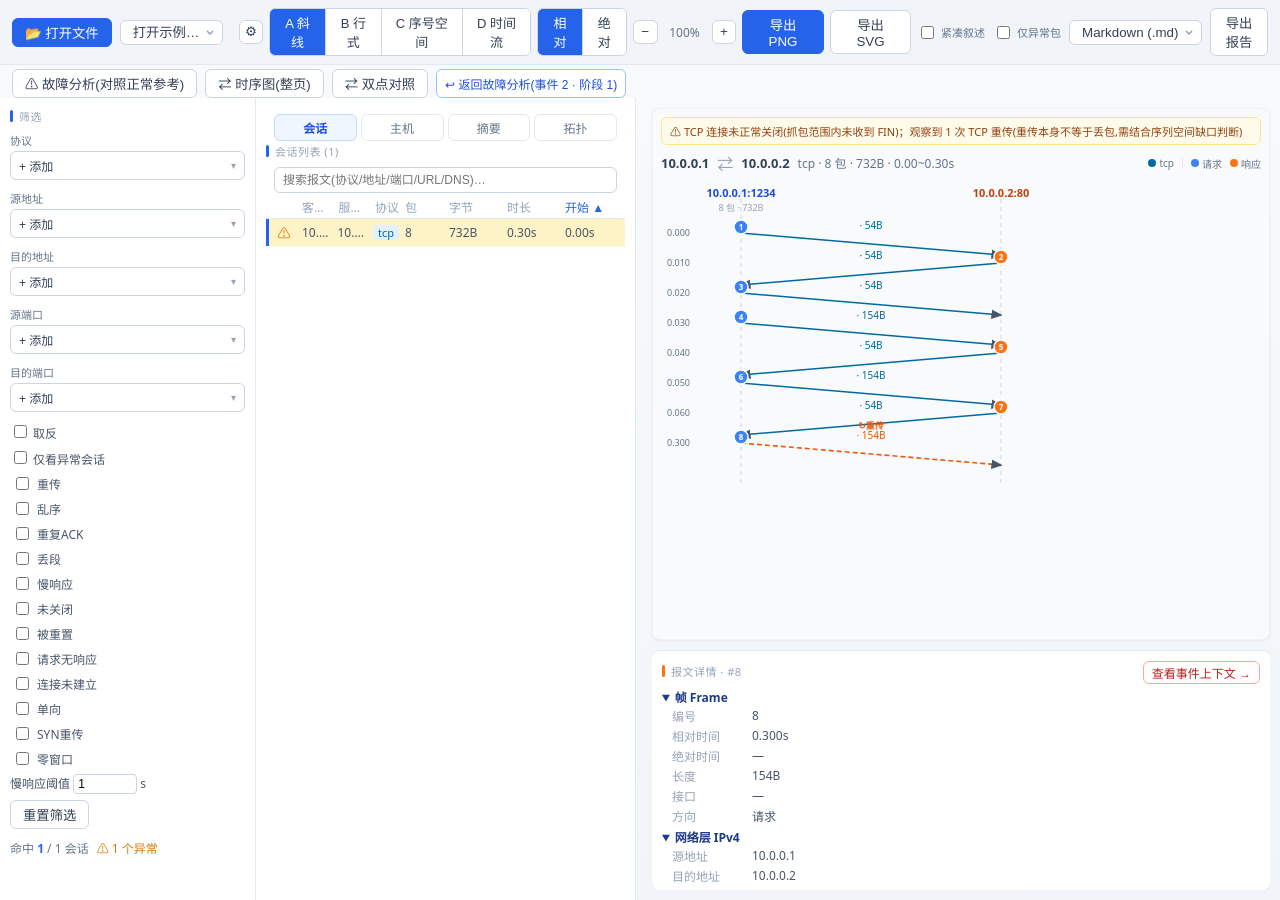
it: M4 故障分析整页板块(用户要求:整页切换,非右侧局部替换) › 「返回故障分析」恢复事件 2:openCompare 的下标重置不得覆盖恢复下标
Click the button with test id "fault-analyze-resume": [531, 84] box [436,69,626,98]
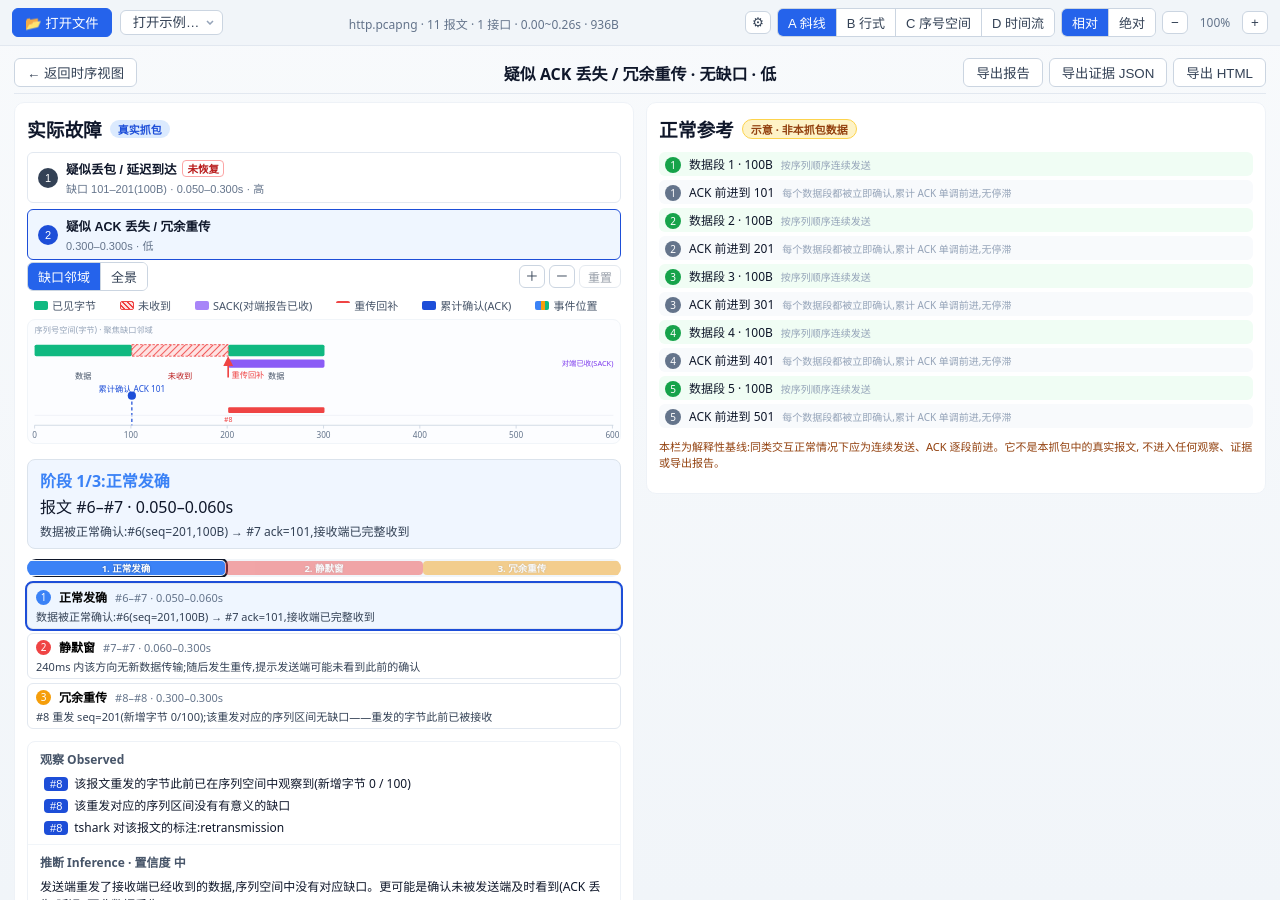
Expected: the element with test id "fault-compare" is shown
